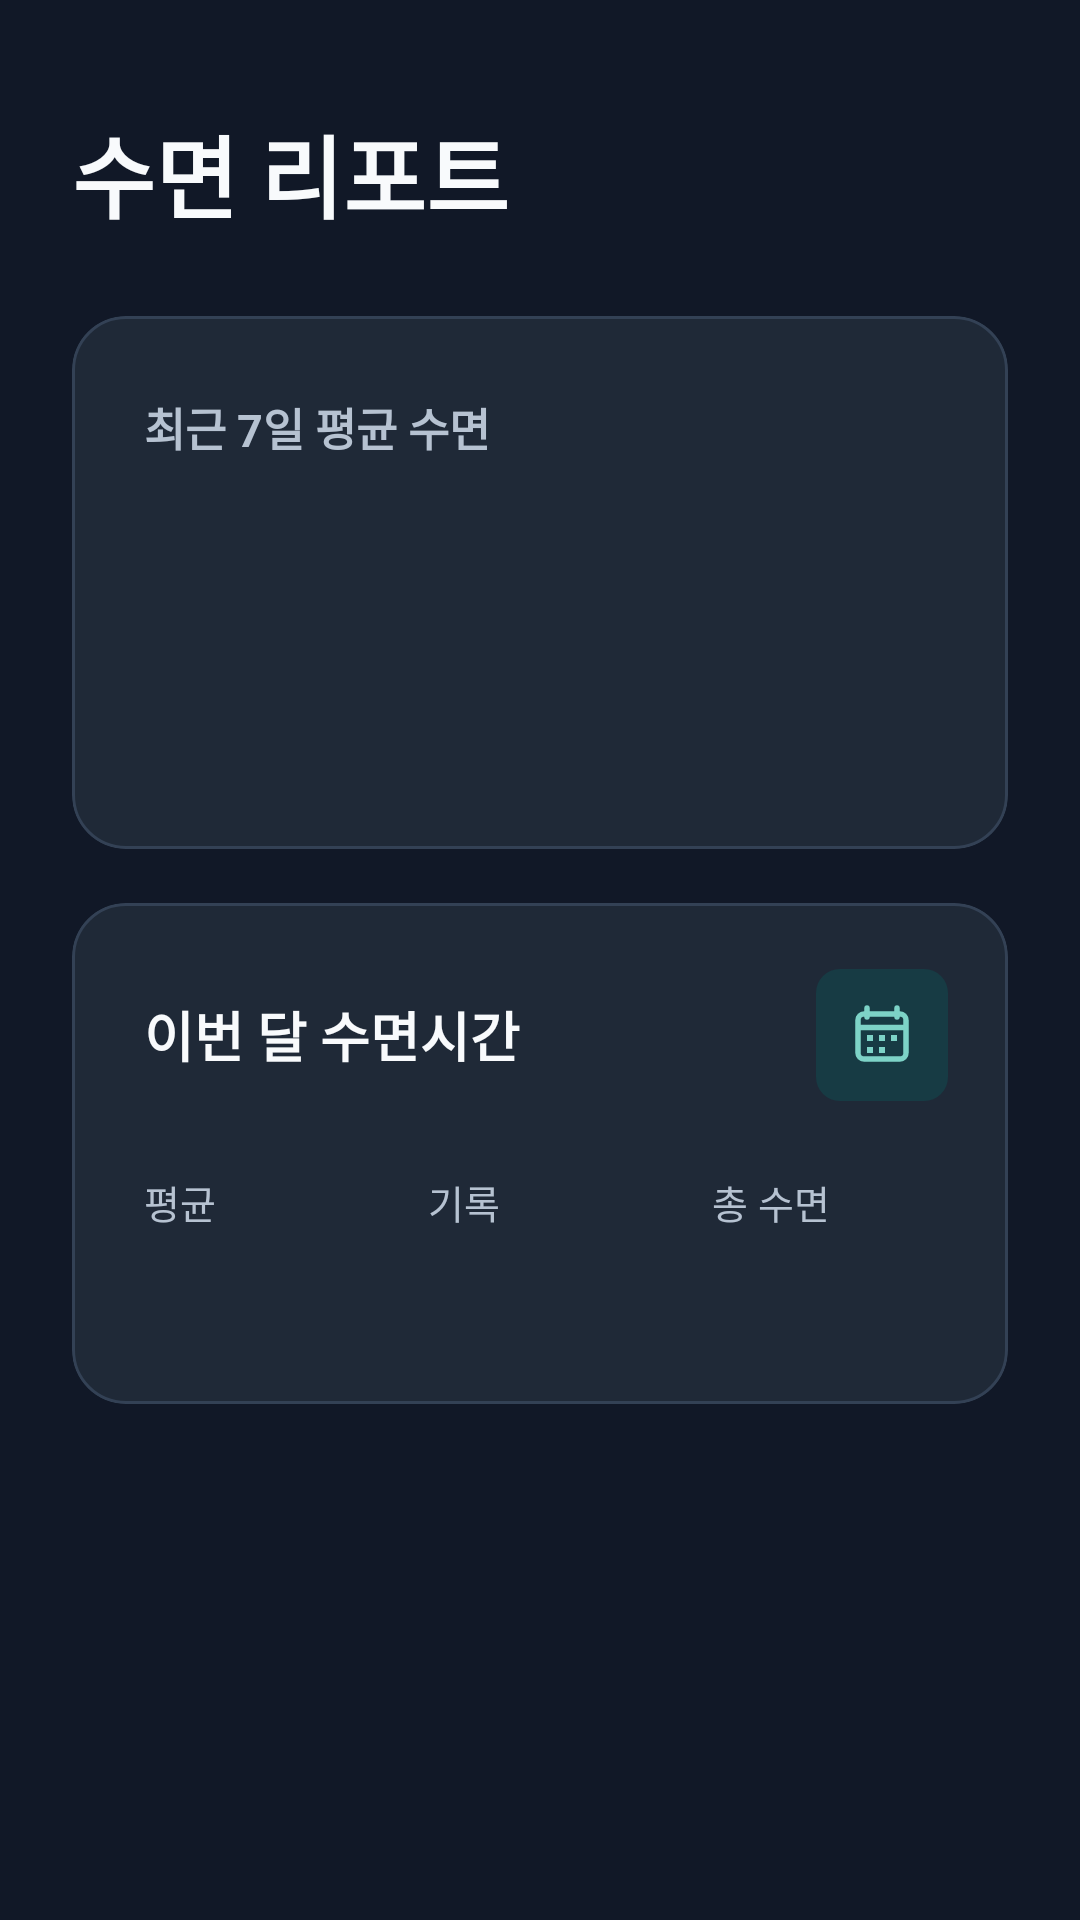

Icon click points for this 1080px×1920px phone screenshot, format (x=x, y=y):
월간 수면 달력 보기: (x=882, y=1033)
